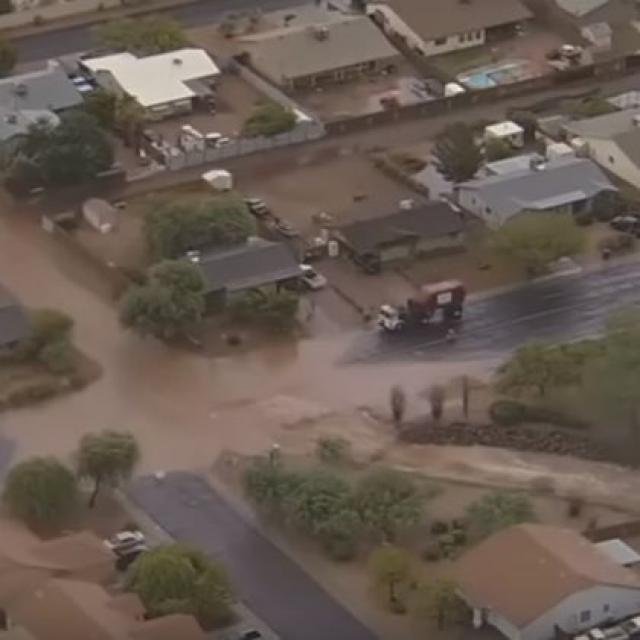flood: (0, 188, 640, 488), (232, 142, 398, 216)
house: (0, 522, 202, 639), (448, 522, 637, 640), (225, 3, 402, 104), (462, 154, 619, 231), (84, 48, 220, 126), (336, 201, 469, 278), (182, 232, 306, 308), (370, 0, 532, 58), (0, 59, 80, 155)
